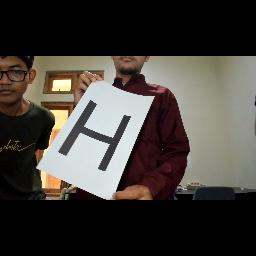h: (55, 95, 135, 175)
